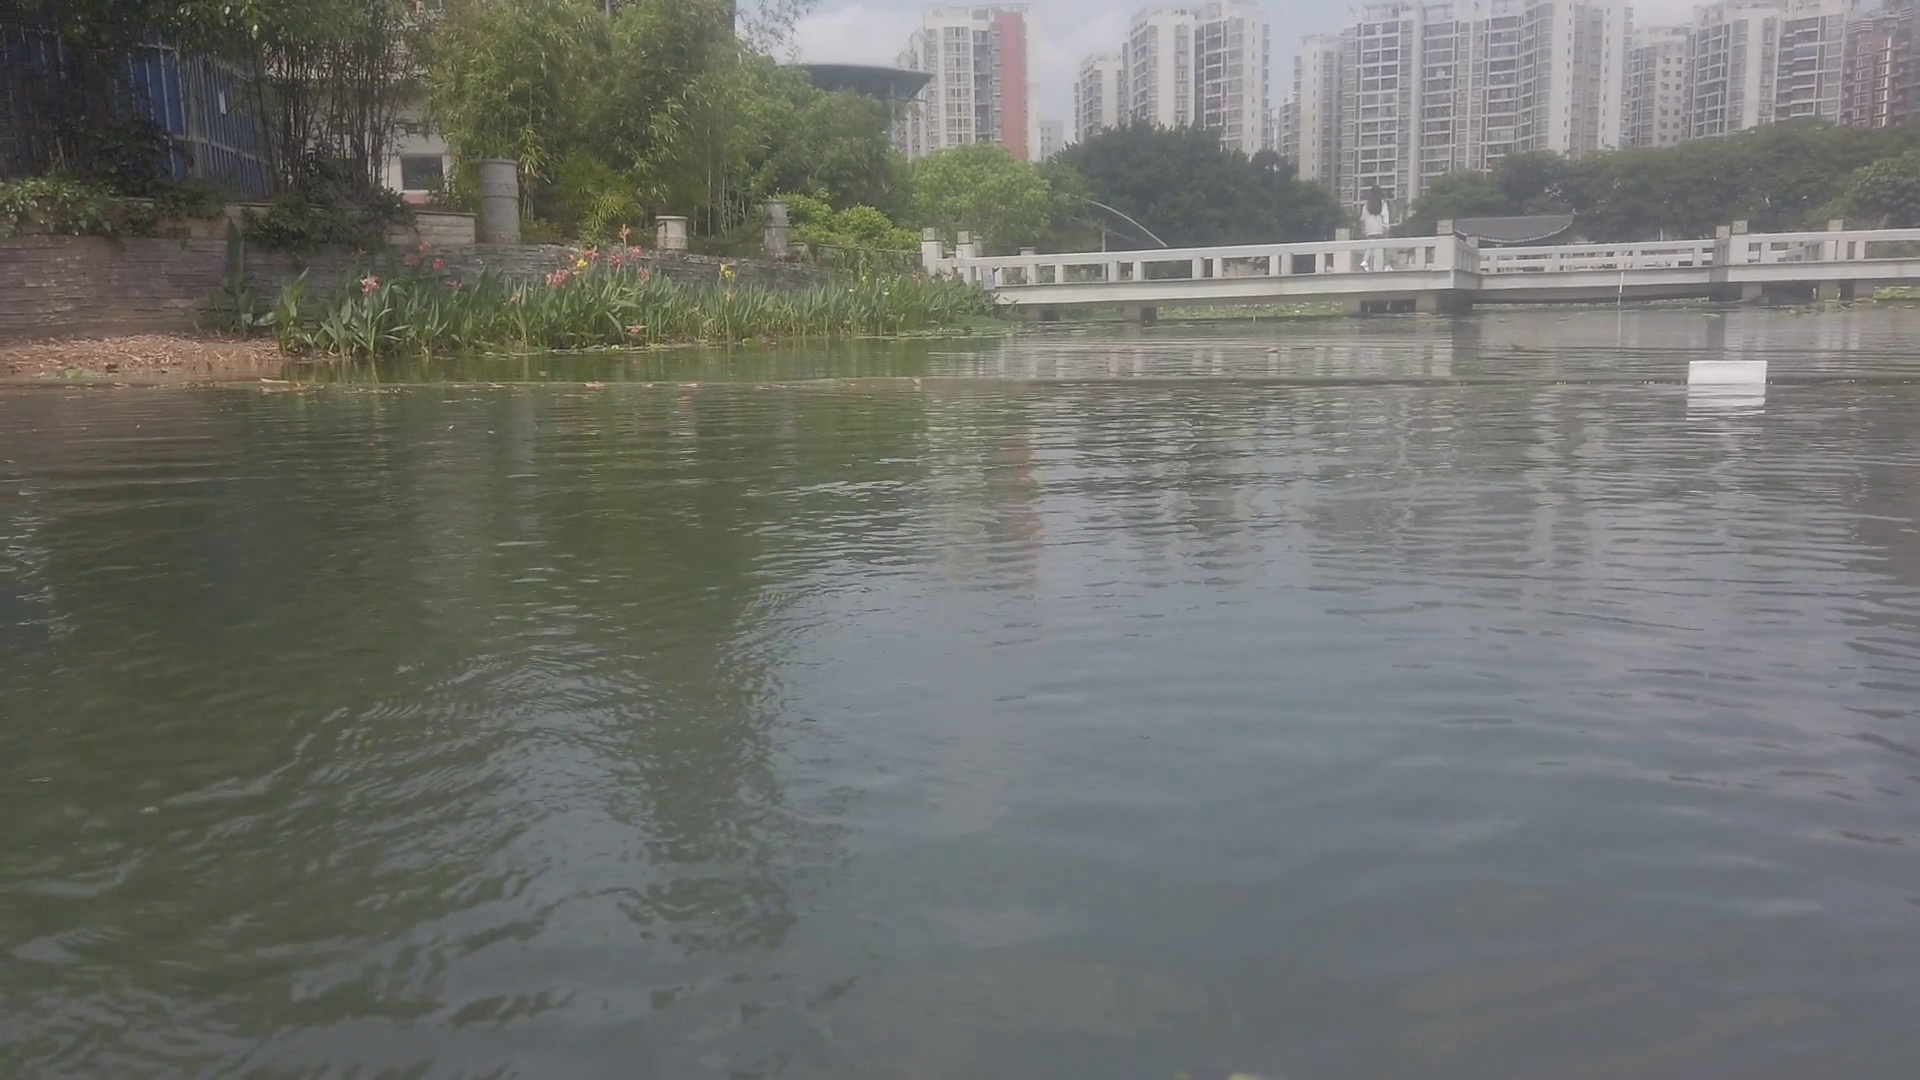carton: (1681, 353, 1768, 389)
